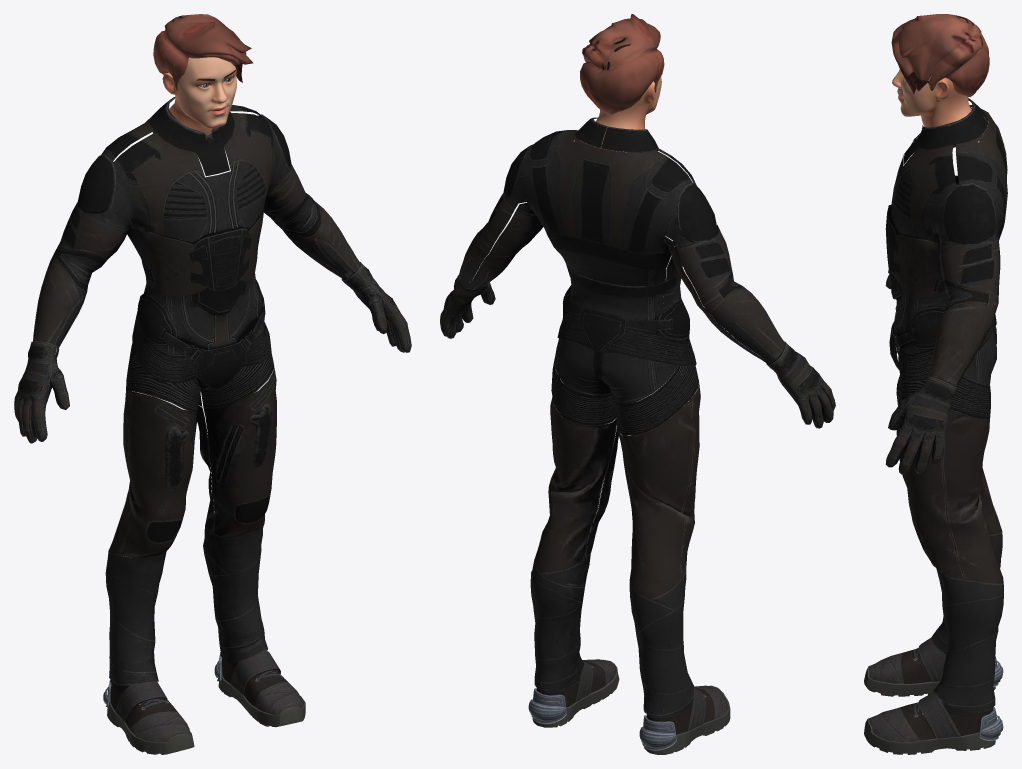
File: Muscular_Character_Costume_1.glb
3 renders of one model, left to right at view 1: azimuth 30°, elevation 25°; view 2: azimuth 150°, elevation 25°; view 3: azimuth 270°, elevation 25°, orthographic.
Parts seen in each view (by area): view 1: Outfit_Top.001, Outfit_Top, Outfit_Footwear, Head.006, Head.005; view 2: Outfit_Top.001, Outfit_Top, Outfit_Footwear, Head.006, Head.005; view 3: Outfit_Top.001, Outfit_Top, Outfit_Footwear, Head.006, Head.005.
Boxes of the visible parts, x1,y1,x2,y2 form: Outfit_Top.001: (14, 97, 411, 443); Outfit_Top: (105, 342, 276, 685); Outfit_Footwear: (103, 650, 305, 754); Head.006: (153, 14, 253, 91); Head.005: (162, 57, 236, 135); Outfit_Top.001: (440, 117, 835, 428); Outfit_Top: (530, 338, 700, 715); Outfit_Footwear: (528, 659, 730, 754); Head.006: (580, 14, 664, 114); Head.005: (574, 77, 661, 152); Outfit_Top.001: (885, 98, 1007, 474); Outfit_Top: (896, 326, 1003, 712); Outfit_Footwear: (864, 637, 1003, 754); Head.006: (891, 14, 989, 96); Head.005: (892, 69, 985, 142).
Size of the model in its own units: 1.07 by 1.87 by 0.348.
6 materials, 6 textured.
